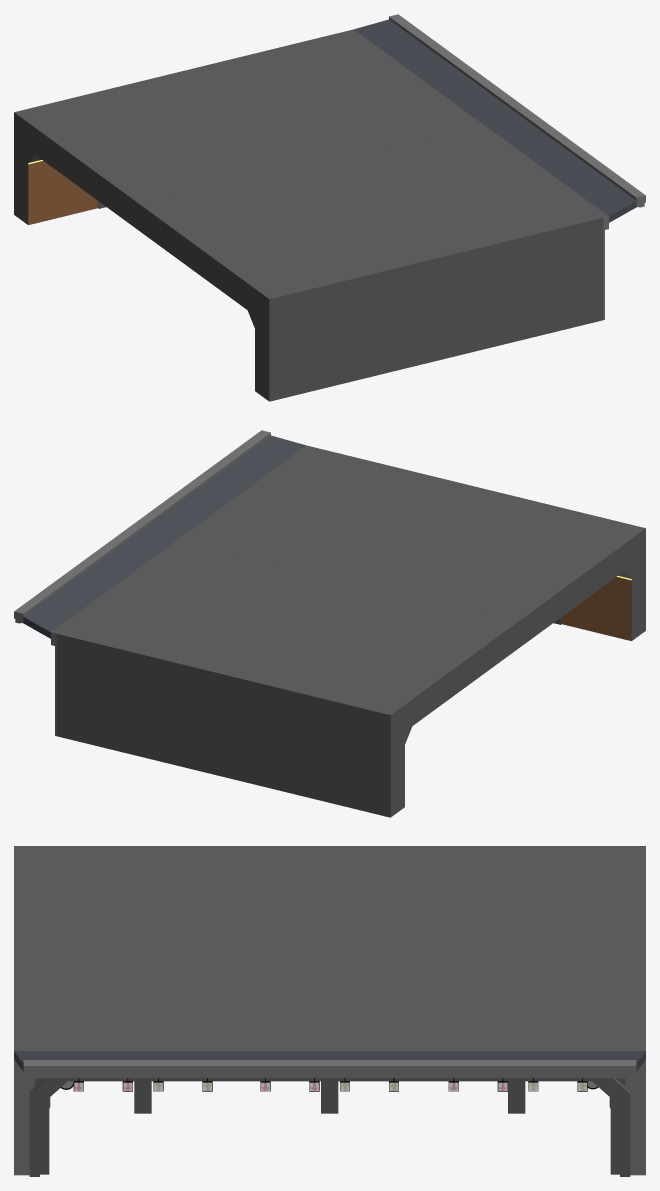
Rendered from SM_LongTunnel3Wide.fbx.
The picture shows the model from 3 angles, top to bottom: view 1: azimuth 30°, elevation 25°; view 2: azimuth 150°, elevation 25°; view 3: azimuth 270°, elevation 25°; orthographic projection. The views are drawn at different scales.
Parts seen in each view (by area): view 1: Cube.030; view 2: Cube.030; view 3: Cube.030, Cube.010, Cube.037, Cube.043.
Part boxes in pixels (<box>): Cube.030: <box>14,14,645,401</box>; Cube.030: <box>14,430,645,817</box>; Cube.030: <box>14,846,645,1176</box>; Cube.010: <box>134,1081,151,1113</box>; Cube.037: <box>321,1081,338,1113</box>; Cube.043: <box>508,1081,525,1113</box>.
Bounding box in the file's own units: 2121 × 592 × 2467.
